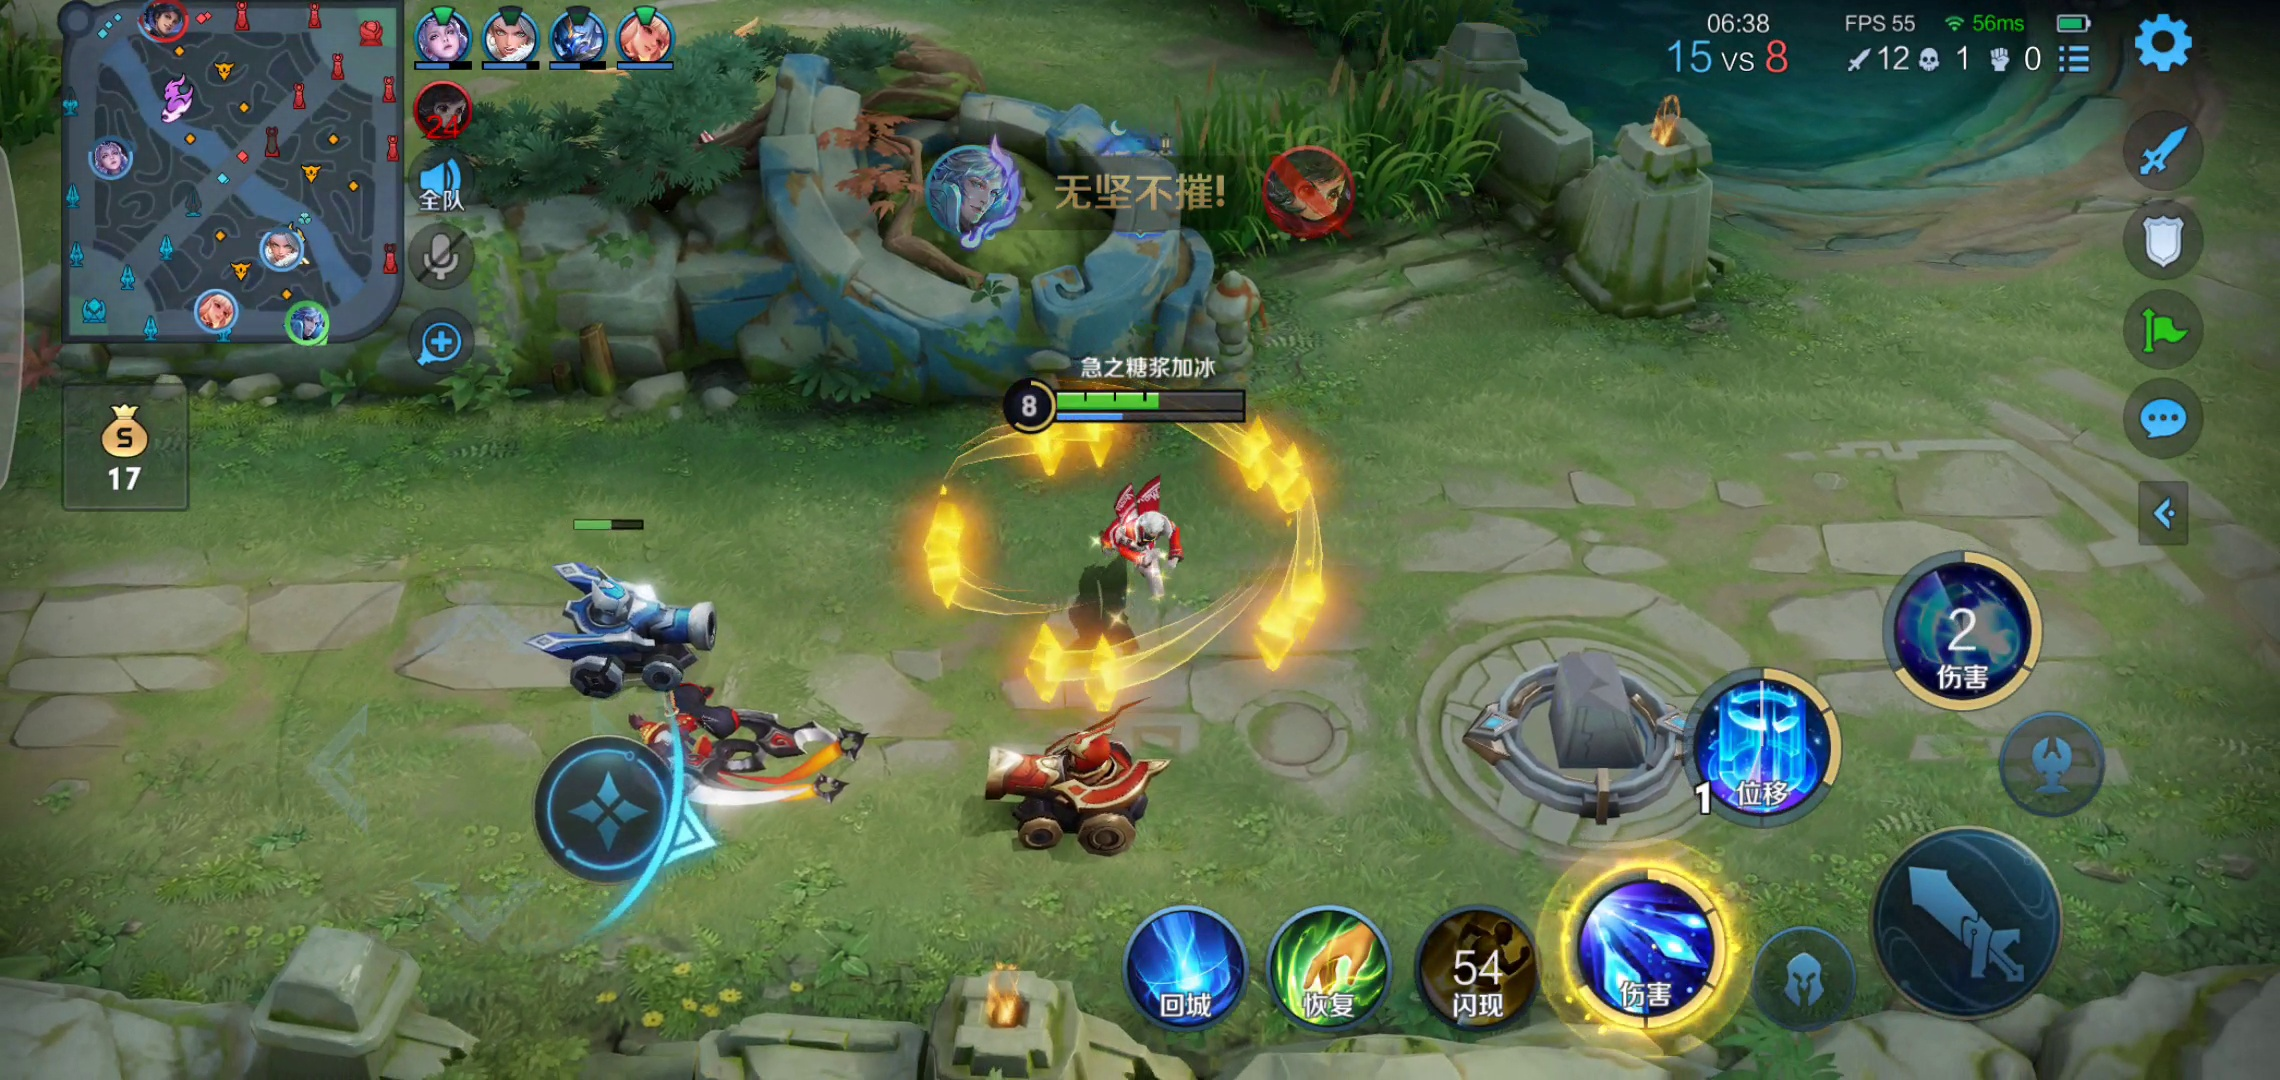hero: (635, 690, 862, 830), (1067, 487, 1216, 610)
soldier: (522, 557, 731, 698), (976, 720, 1163, 856)
tower: (1136, 84, 1522, 246), (1456, 629, 1695, 826)
